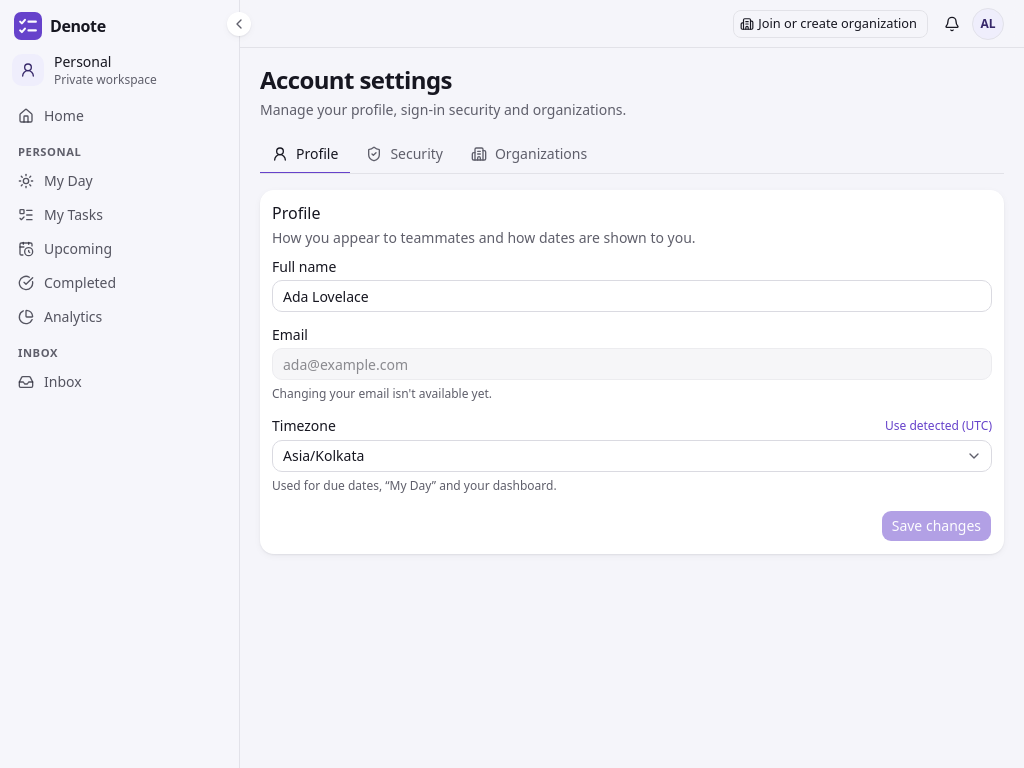
Test: profile settings › saves name and timezone and keeps the button disabled until something changes
Expected: the button "Save changes" is disabled, [881,510,992,542]
Replace the text in the field labelled "Full name" with "Ada King": (632, 296) [272,280,992,312]
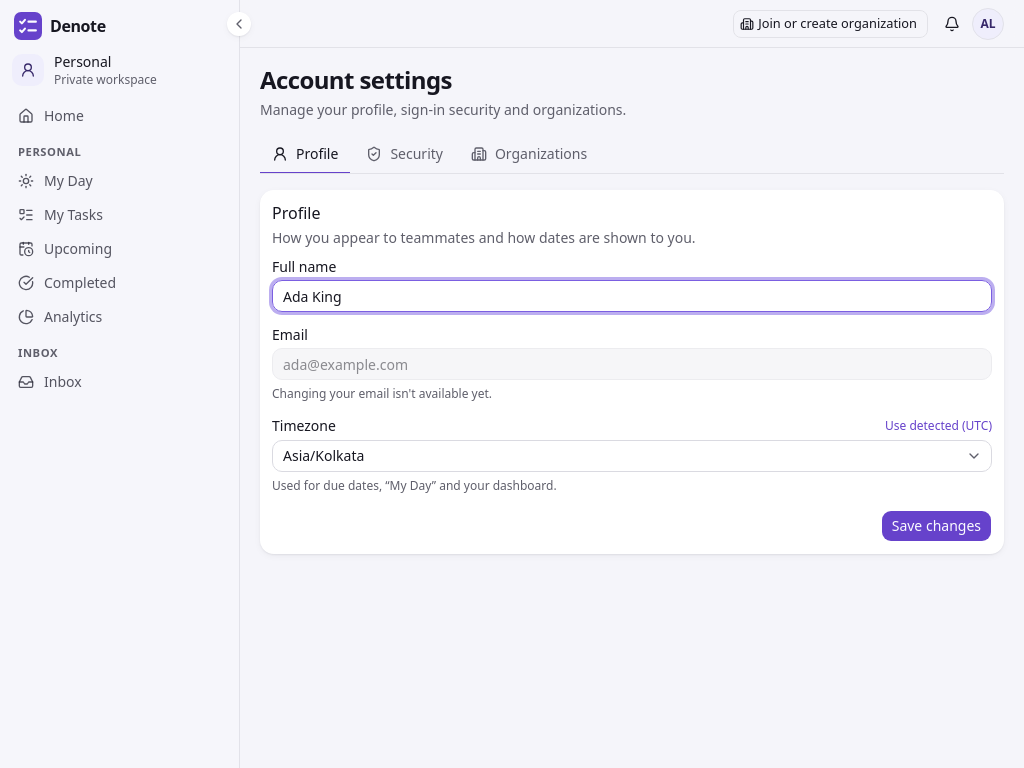
Select "Europe/London" in the dropdown labelled "Timezone": (632, 456) [272,440,992,472]
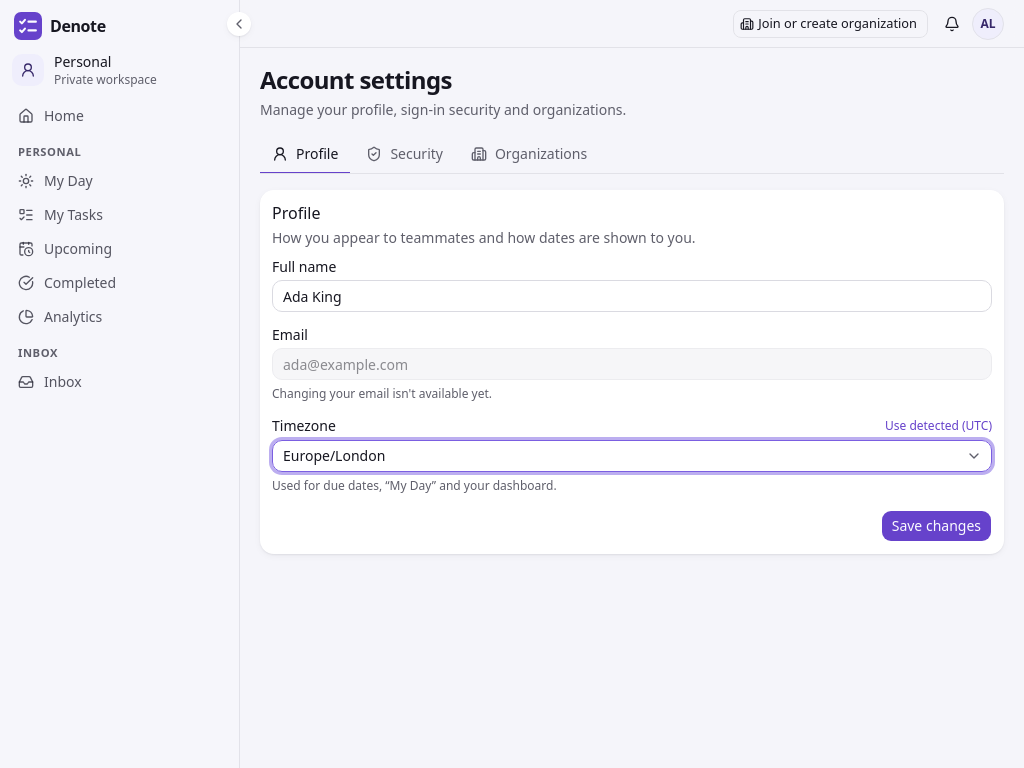
Click the button "Save changes": (936, 526) [881,510,992,542]
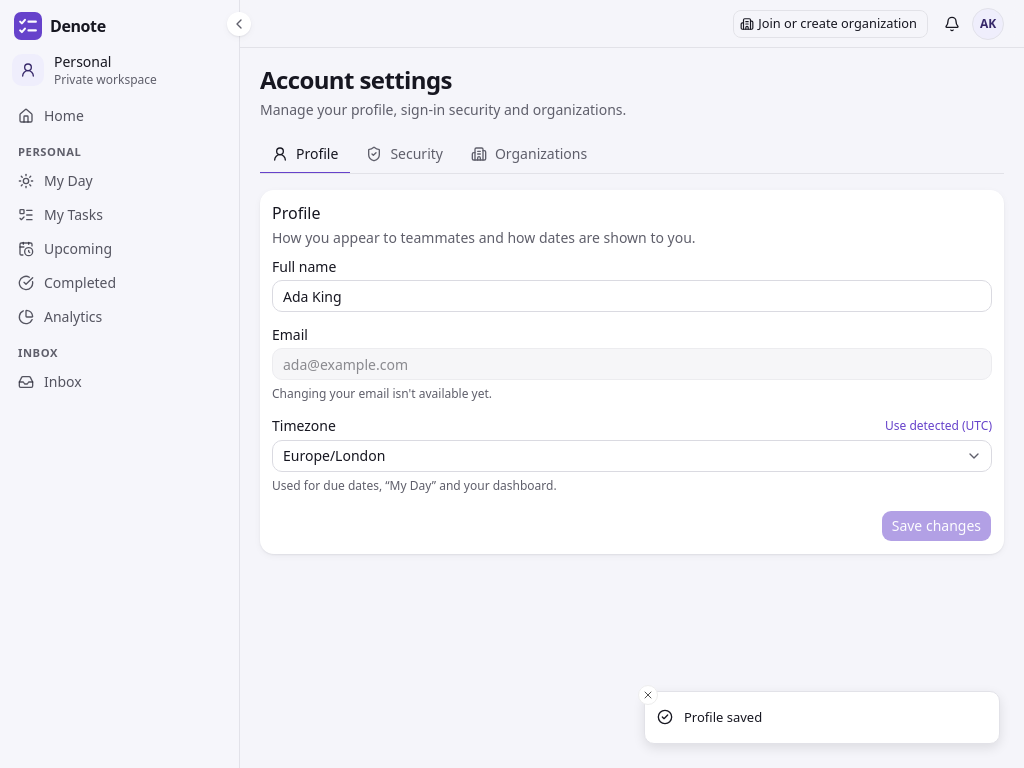
Expected: the text "Profile saved" is shown, [684,708,762,727]
